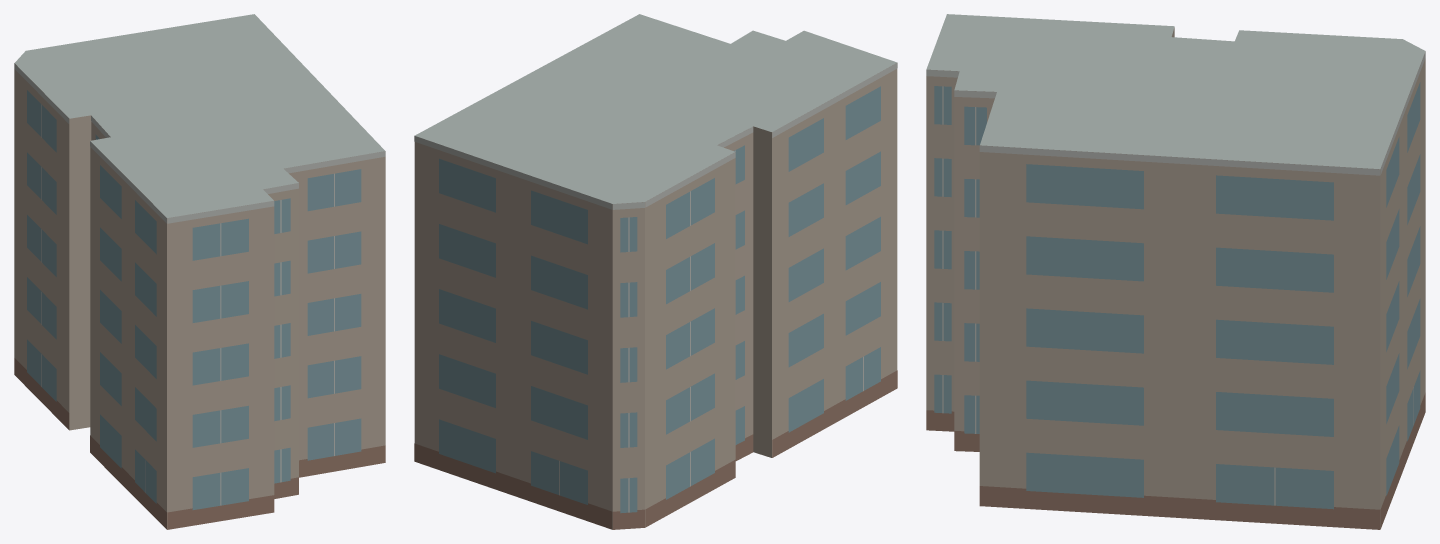
Rendered from survey-upis-33013381.glb.
3 renders of one model, left to right at view 1: azimuth 30°, elevation 25°; view 2: azimuth 150°, elevation 25°; view 3: azimuth 270°, elevation 25°, orthographic. The views are drawn at different scales.
Visible parts, largest first — view 1: survey-upis-33013381.tmp; view 2: survey-upis-33013381.tmp; view 3: survey-upis-33013381.tmp.
Boxes of the visible parts, x1,y1,x2,y2 form: survey-upis-33013381.tmp: [14, 14, 385, 529]; survey-upis-33013381.tmp: [414, 14, 897, 529]; survey-upis-33013381.tmp: [926, 14, 1425, 529].
Size of the model in its own units: 12.37 by 13.4 by 16.82.
